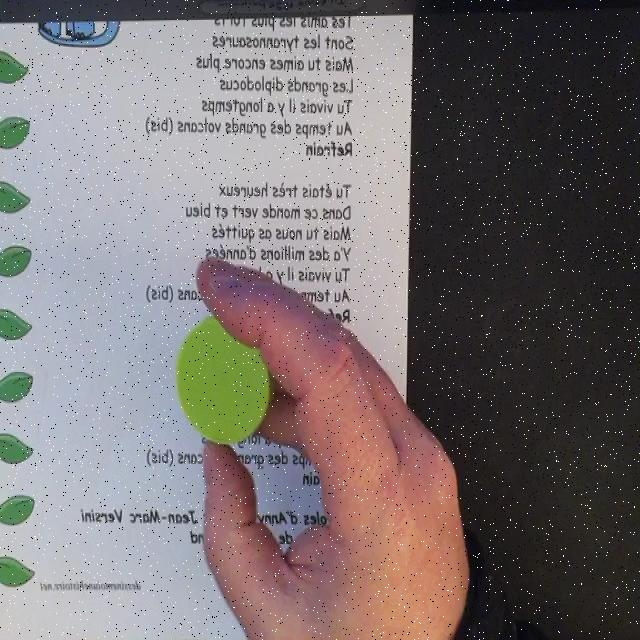round: (176, 316, 272, 446)
